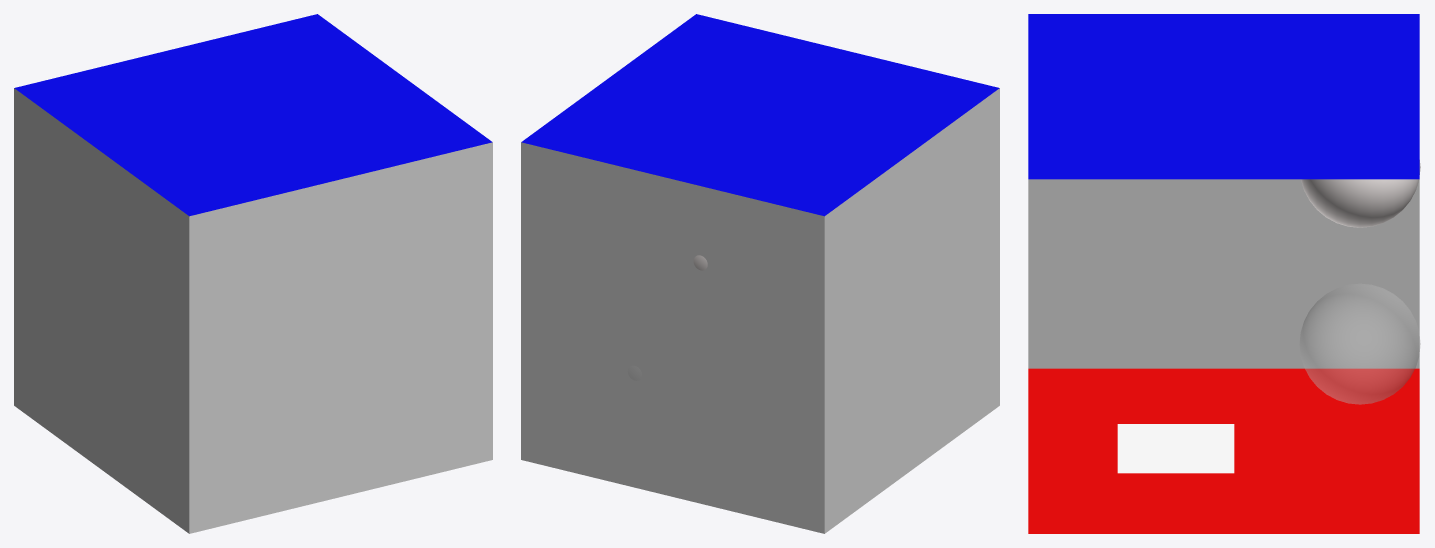
The model's file is glass_mirror.gltf.
The picture shows the model from 3 angles, left to right: view 1: azimuth 30°, elevation 25°; view 2: azimuth 150°, elevation 25°; view 3: azimuth 270°, elevation 25°; orthographic projection. The views are drawn at different scales.
Visible parts, largest first — view 1: Cube; view 2: Cube; view 3: Cube, Sphere.001, Plane, Sphere.
Part boxes in pixels (left/top/right/bottom): Cube: left=14, top=14, right=492, bottom=533; Cube: left=521, top=14, right=999, bottom=533; Cube: left=1028, top=14, right=1419, bottom=533; Sphere.001: left=1299, top=284, right=1420, bottom=404; Plane: left=1117, top=424, right=1234, bottom=473; Sphere: left=1301, top=160, right=1420, bottom=227.
Bounding box in the file's own units: 2 × 2 × 2.
